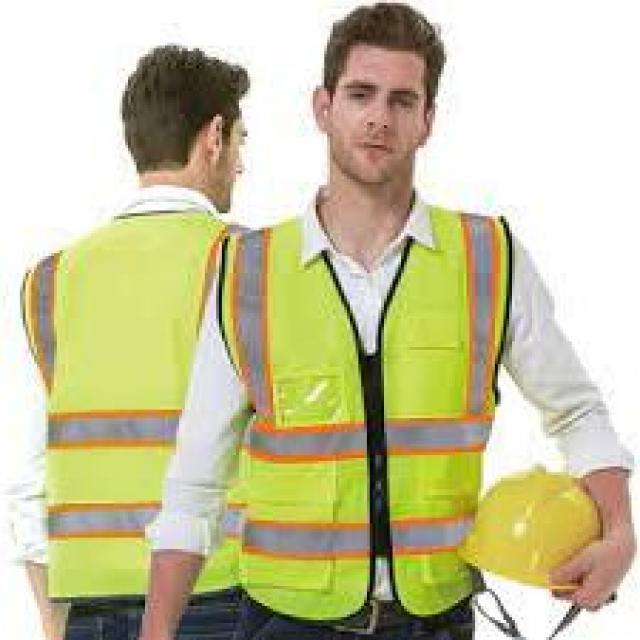reflective_jacket: (211, 199, 529, 632), (11, 199, 229, 612)
safety_helmet: (454, 459, 601, 589)
